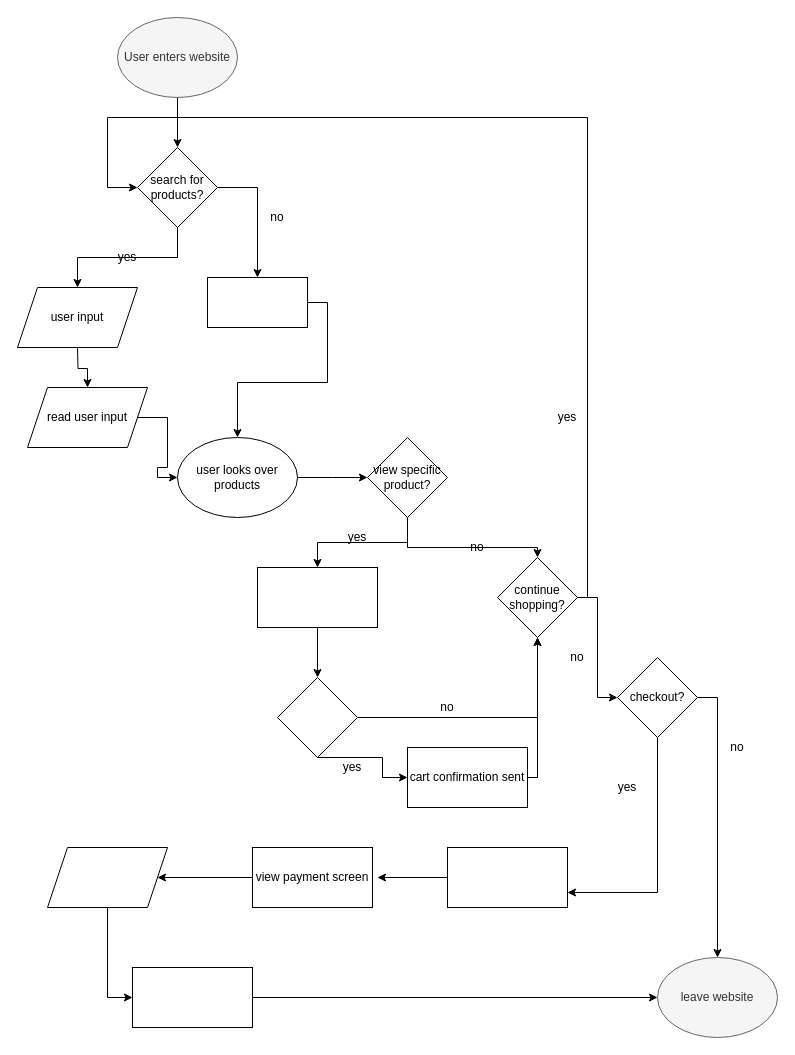
Some shapes in this 795 by 1055 pixel diagram are drawn without their labels. Here are the shapes that lost their labels. From the top down, the centre of each, then its label:
point 257,302: explore products
point 317,597: product's webpage will open
point 317,717: add item to cart?
point 107,877: user gives payment input
point 507,877: reach view cart screen
point 192,997: order confirmation screen/ receive email
